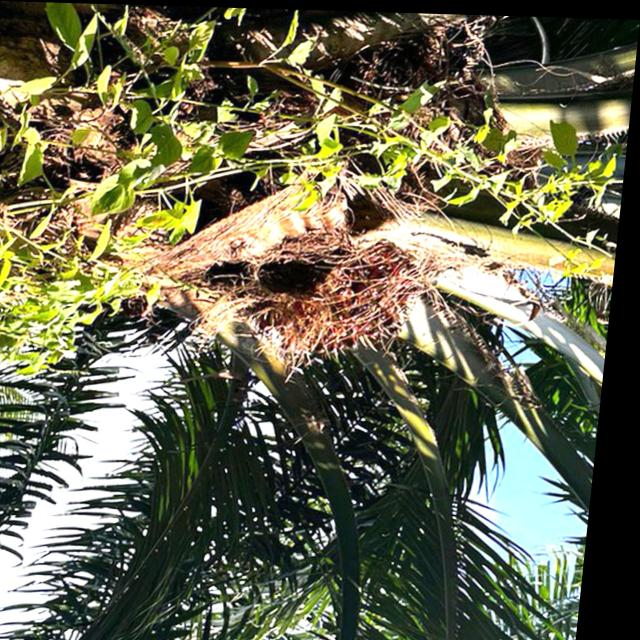almost: (265, 218, 446, 366)
